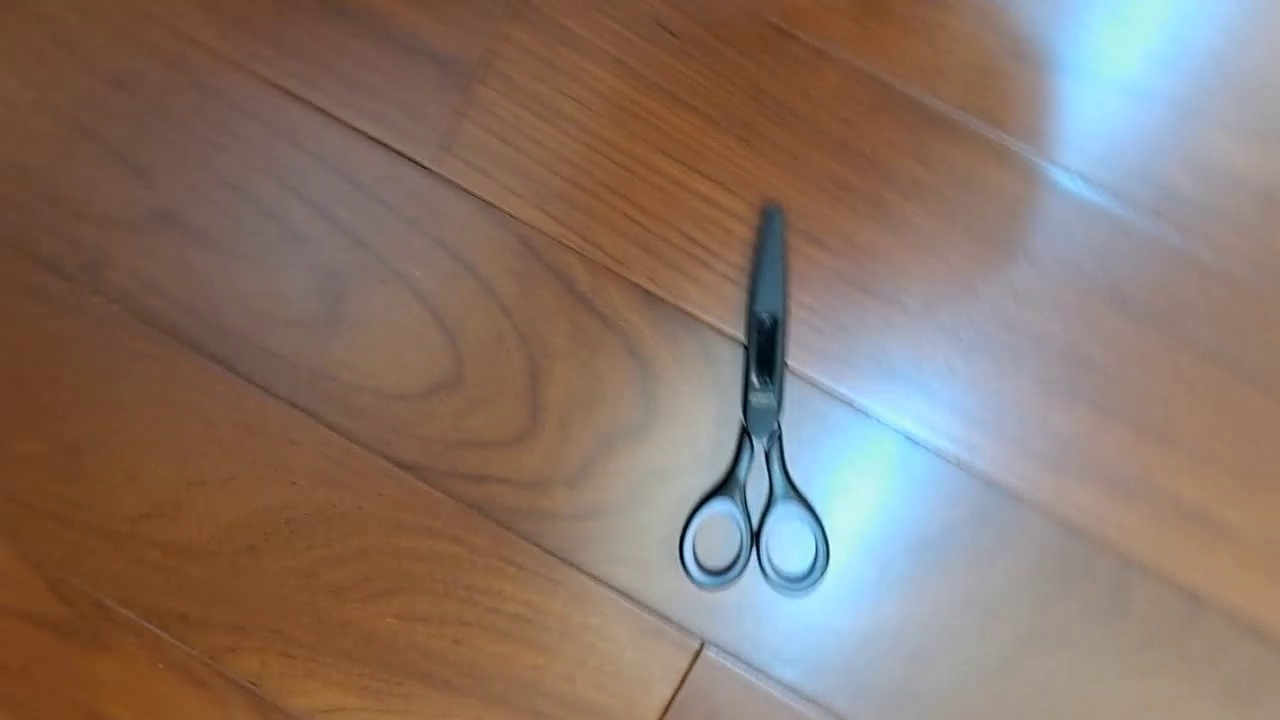scissors: (678, 199, 830, 598)
